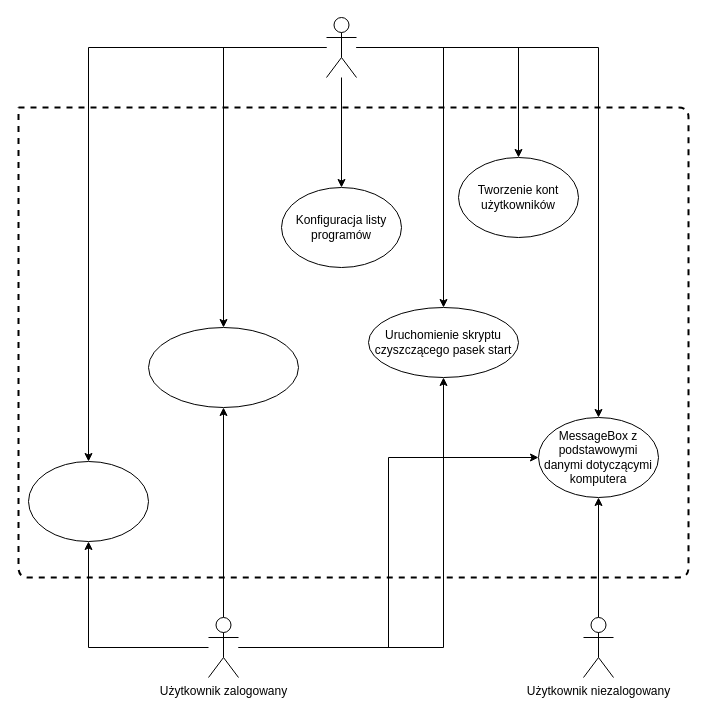
Image size: 707x716. Some labels were removed from this diagram. The centre of each missing label's shape, as x and y in pixels:
"Administrator IT" goes at (341,47).
"Szyfrowanie dysku C: Funkcją Bitlocker" goes at (88,501).
"Wybór programów z listy predefiniowanej i ich automatyczna instalacja" goes at (223,367).
